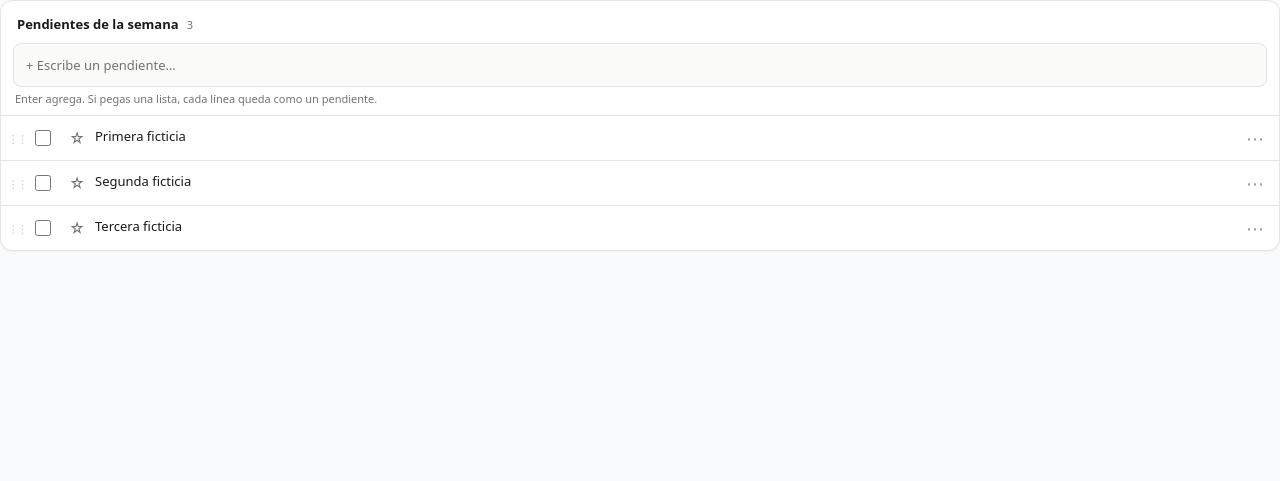
Test: «Pendientes de la semana» › a ticked line waiting for the reload is not used as a move anchor
This screenshot has width=1280, height=481.
Expected: the button "Primera ficticia" is shown, [95,126,1237,146]
Click the checkbox named "Marcar «Primera ficticia» como hecha" at (43, 138), box [35,130,51,146]
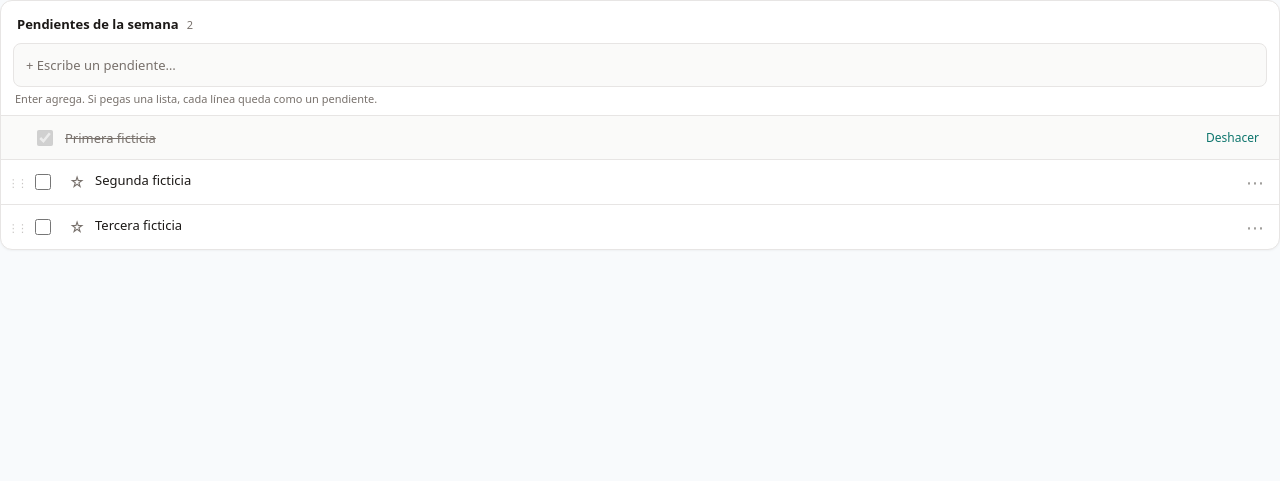
Result: the button "Deshacer" is shown at [1194,122,1271,154]
Click the button named "Más acciones" at (1255, 227), box [1239,209,1271,245]
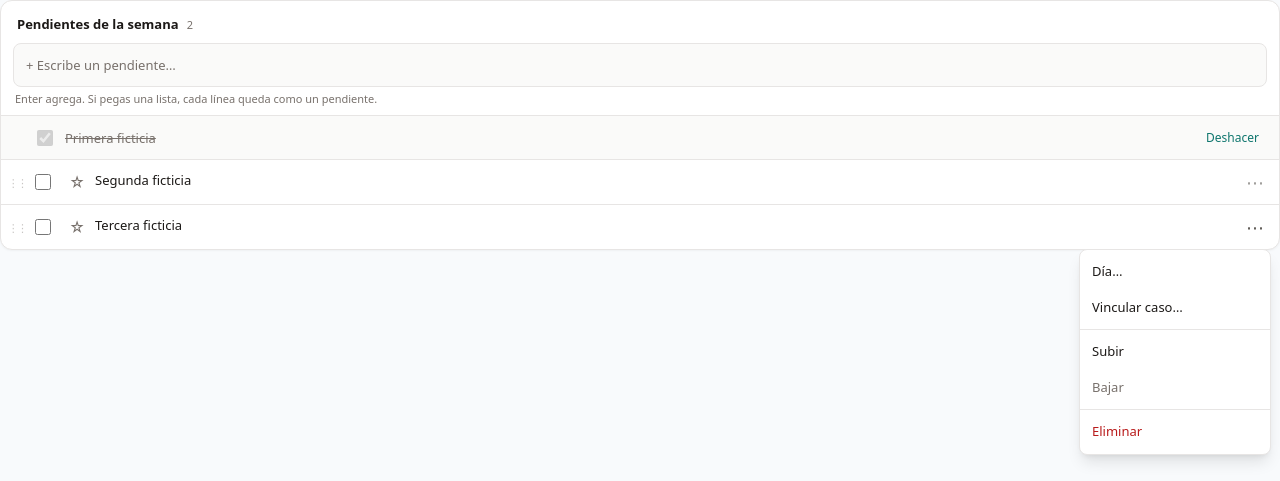
Click the menu item "Subir" at (1175, 352), box [1080,334,1270,370]
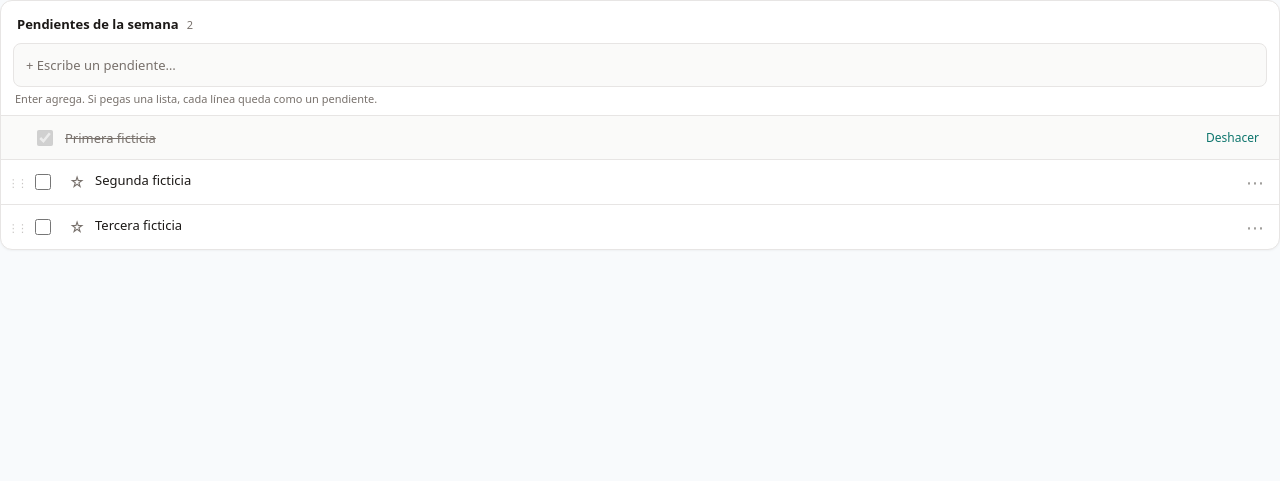
# And «Segunda» is now first of what is left: it cannot go up.
Click the button named "Más acciones" at (1255, 182), box [1239,164,1271,200]
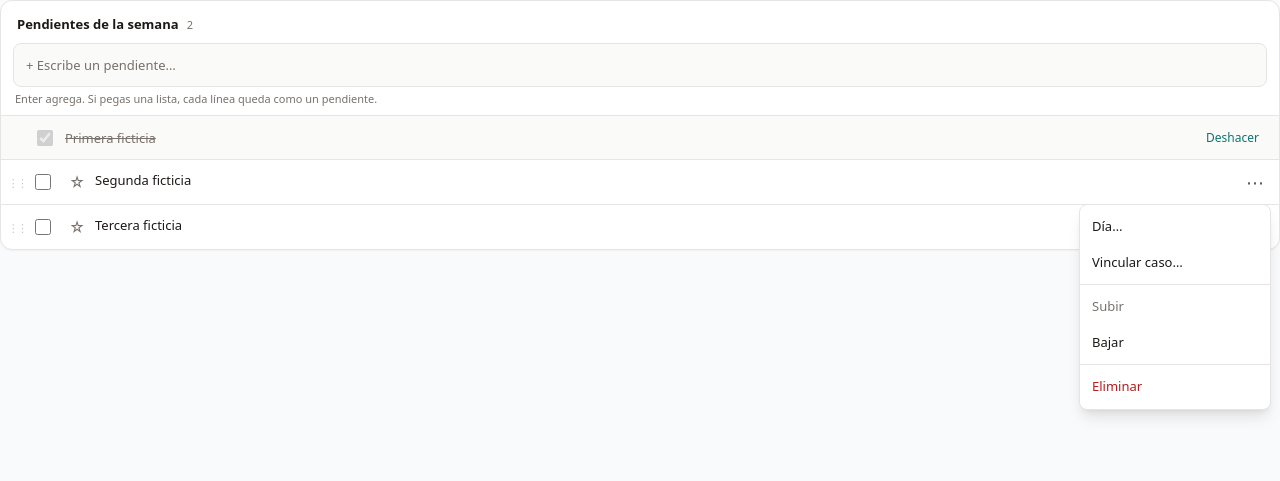
Result: the menu item "Subir" is disabled at [1080,289,1270,324]
